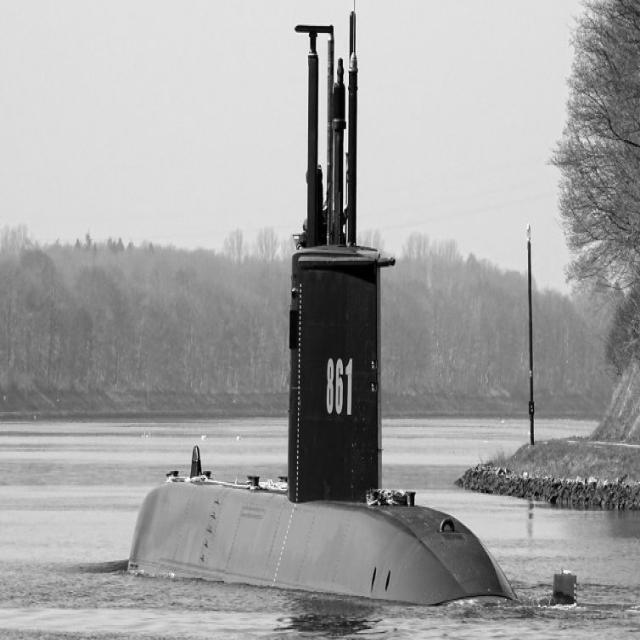submarine: (131, 1, 576, 608)
